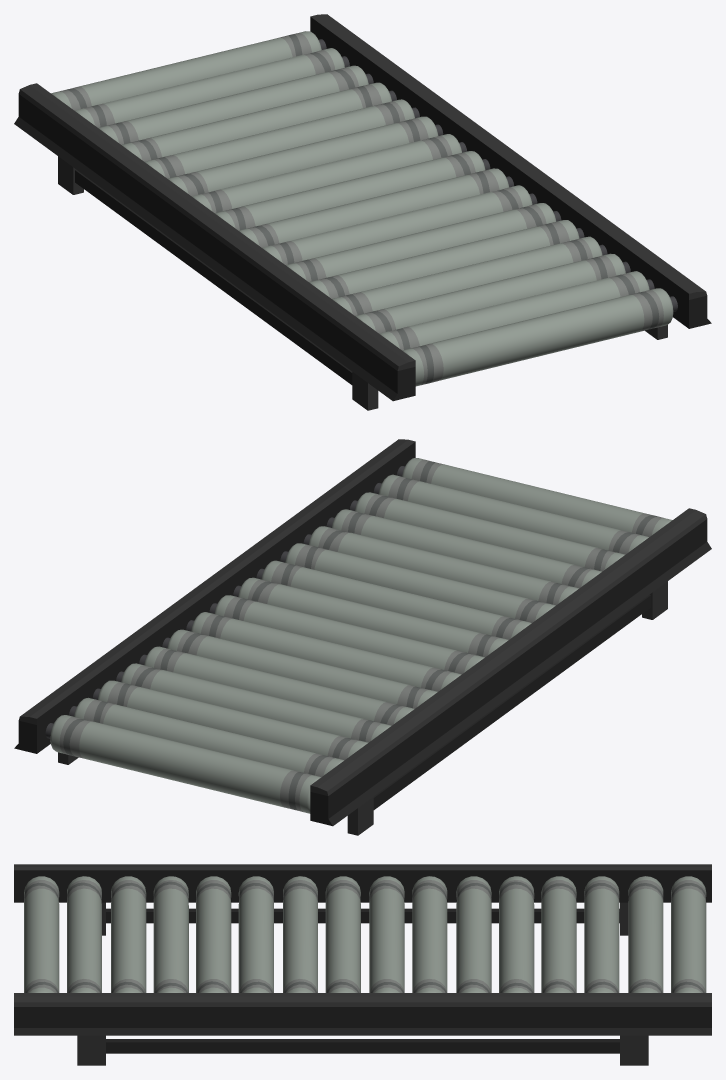
The model's file is NewRoad.fbx.
The picture shows the model from 3 angles, top to bottom: view 1: azimuth 30°, elevation 25°; view 2: azimuth 150°, elevation 25°; view 3: azimuth 270°, elevation 25°; orthographic projection. The views are drawn at different scales.
Parts seen in each view (by area): view 1: Cube.007, Cube.006, Cylinder.030, Cylinder.024, Cylinder.032, Cylinder.022, Cylinder.027, Cylinder.018, Cylinder.026, Cylinder.034, Cylinder.020, Cylinder.028 (+6 smaller); view 2: Cube.007, Cube.006, Cylinder.034, Cylinder.020, Cylinder.028, Cylinder.031, Cylinder.026, Cylinder.023, Cylinder.030, Cylinder.022, Cylinder.024, Cylinder.032 (+6 smaller); view 3: Cube.006, Cube.007, Cylinder.018, Cylinder.021, Cylinder.032, Cylinder.033, Cylinder.020, Cylinder.022, Cylinder.026, Cylinder.023, Cylinder.024, Cylinder.034 (+6 smaller).
Part boxes in pixels (bbox=[...]): Cube.007: bbox=[14, 83, 415, 410]; Cube.006: bbox=[310, 14, 711, 339]; Cylinder.030: bbox=[402, 288, 677, 386]; Cylinder.024: bbox=[168, 116, 443, 196]; Cylinder.032: bbox=[355, 253, 630, 333]; Cylinder.022: bbox=[215, 151, 490, 230]; Cylinder.027: bbox=[262, 185, 537, 264]; Cylinder.018: bbox=[74, 48, 349, 127]; Cylinder.026: bbox=[239, 168, 513, 247]; Cylinder.034: bbox=[51, 31, 326, 110]; Cylinder.020: bbox=[98, 65, 373, 144]; Cylinder.028: bbox=[286, 203, 561, 281]; Cube.007: bbox=[310, 508, 711, 835]; Cube.006: bbox=[14, 439, 415, 764]; Cylinder.034: bbox=[45, 715, 321, 813]; Cylinder.020: bbox=[92, 680, 368, 760]; Cylinder.028: bbox=[280, 543, 555, 622]; Cylinder.031: bbox=[373, 474, 648, 554]; Cylinder.026: bbox=[233, 577, 508, 657]; Cylinder.023: bbox=[186, 612, 461, 691]; Cylinder.030: bbox=[397, 458, 672, 537]; Cylinder.022: bbox=[209, 595, 484, 674]; Cylinder.024: bbox=[162, 629, 437, 708]; Cylinder.032: bbox=[350, 492, 625, 571]; Cube.006: bbox=[14, 993, 711, 1065]; Cube.007: bbox=[14, 864, 711, 935]; Cylinder.018: bbox=[628, 876, 663, 992]; Cylinder.021: bbox=[541, 876, 576, 992]; Cylinder.032: bbox=[111, 876, 146, 992]; Cylinder.033: bbox=[153, 876, 188, 992]; Cylinder.020: bbox=[584, 876, 619, 992]; Cylinder.022: bbox=[369, 876, 404, 992]; Cylinder.026: bbox=[325, 876, 360, 992]; Cylinder.023: bbox=[412, 876, 447, 992]; Cylinder.024: bbox=[456, 876, 491, 992]; Cylinder.034: bbox=[671, 876, 706, 992].
Size of the model in its own units: 1479 by 320 by 3043.
